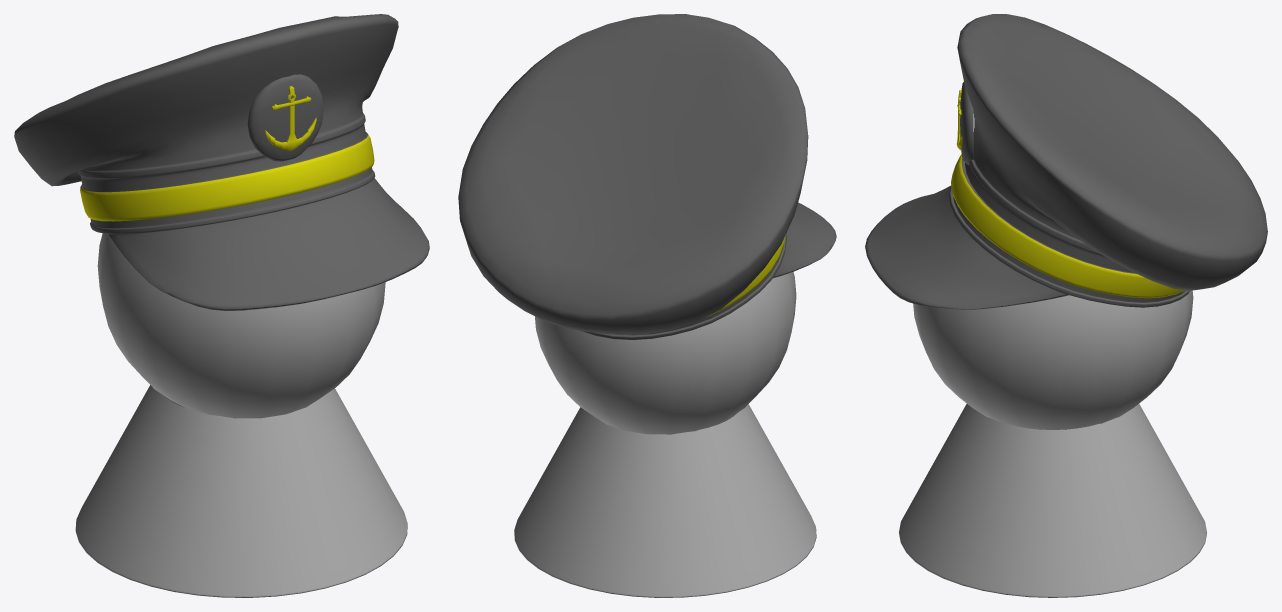
Rendered from Commander1.fbx.
3 views of the same model, side by side, from view 1: azimuth 30°, elevation 25°; view 2: azimuth 150°, elevation 25°; view 3: azimuth 270°, elevation 25° (orthographic). The views are drawn at different scales.
Visible parts, largest first — view 1: polySurface5; view 2: polySurface5; view 3: polySurface5.
Boxes of the visible parts, <box> form: polySurface5: <box>14,14,429,597</box>; polySurface5: <box>458,14,836,597</box>; polySurface5: <box>865,14,1267,597</box>.
Bounding box in the file's own units: 93.85 × 139 × 103.
